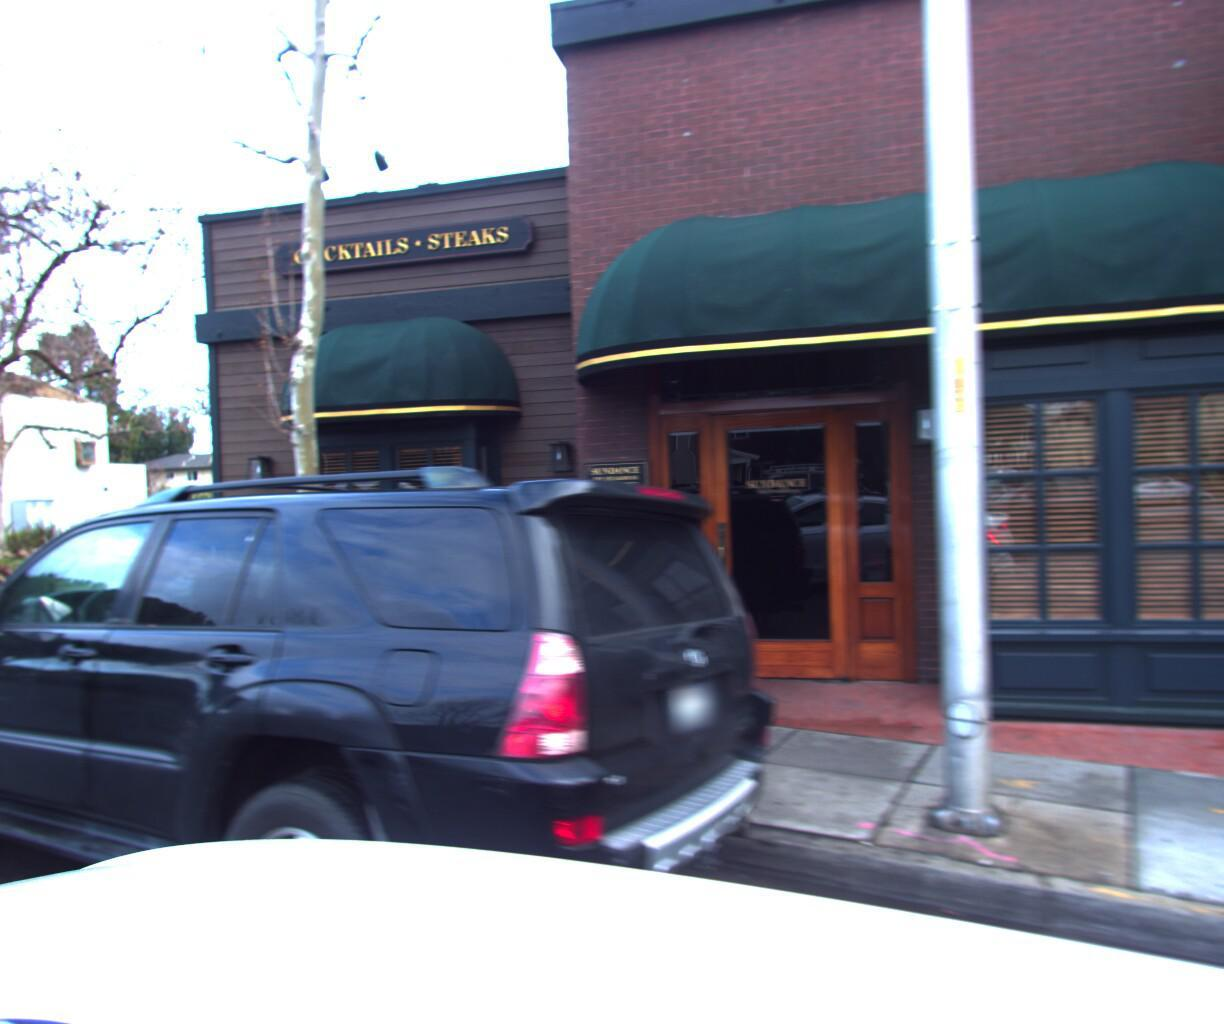car: (0, 460, 804, 1024)
